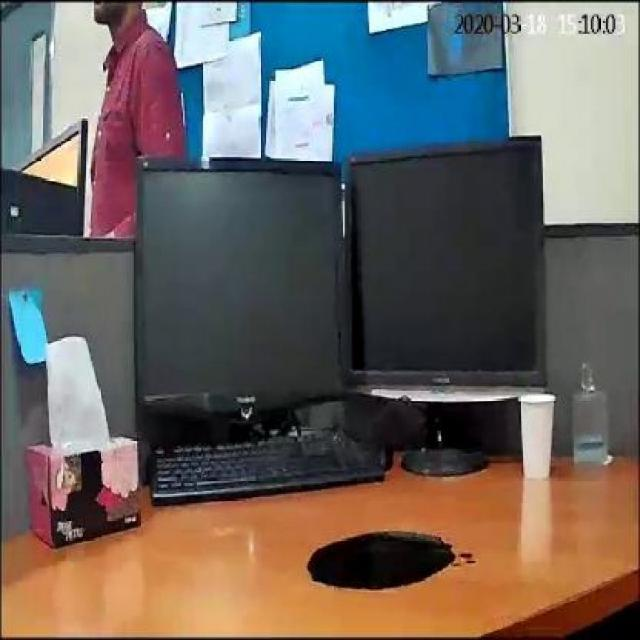spill: (304, 528, 468, 588)
